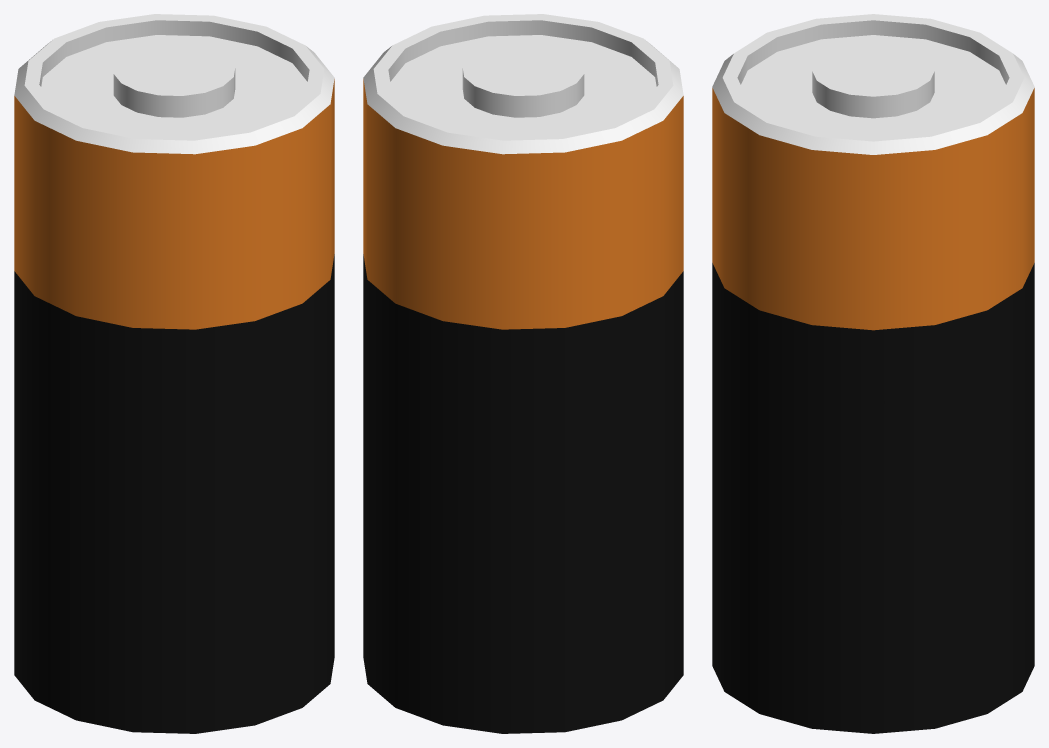
File: Battery.glb
The picture shows the model from 3 angles, left to right: view 1: azimuth 30°, elevation 25°; view 2: azimuth 150°, elevation 25°; view 3: azimuth 270°, elevation 25°; orthographic projection.
Visible parts, largest first — view 1: Object; view 2: Object; view 3: Object.
Part boxes in pixels (<box>): Object: <box>14,14,334,733</box>; Object: <box>363,14,683,733</box>; Object: <box>712,14,1034,733</box>.
Size of what is drawn, in the model's own units: 0.6837 by 1.39 by 0.6837.
